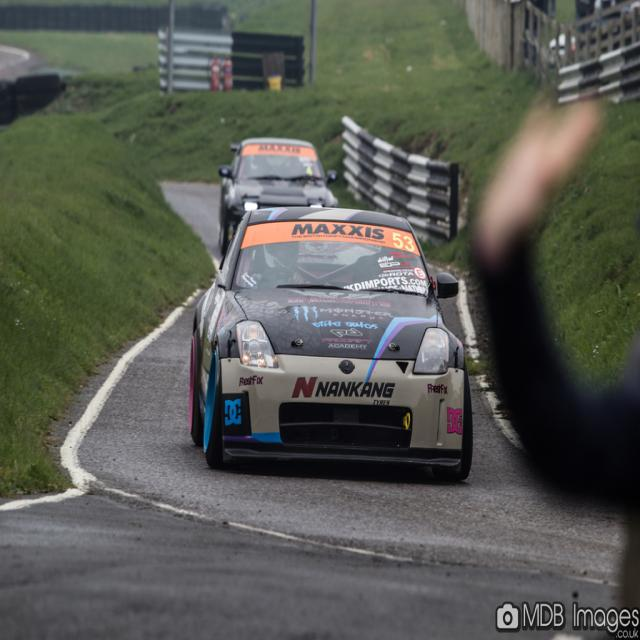car: (195, 206, 468, 471)
